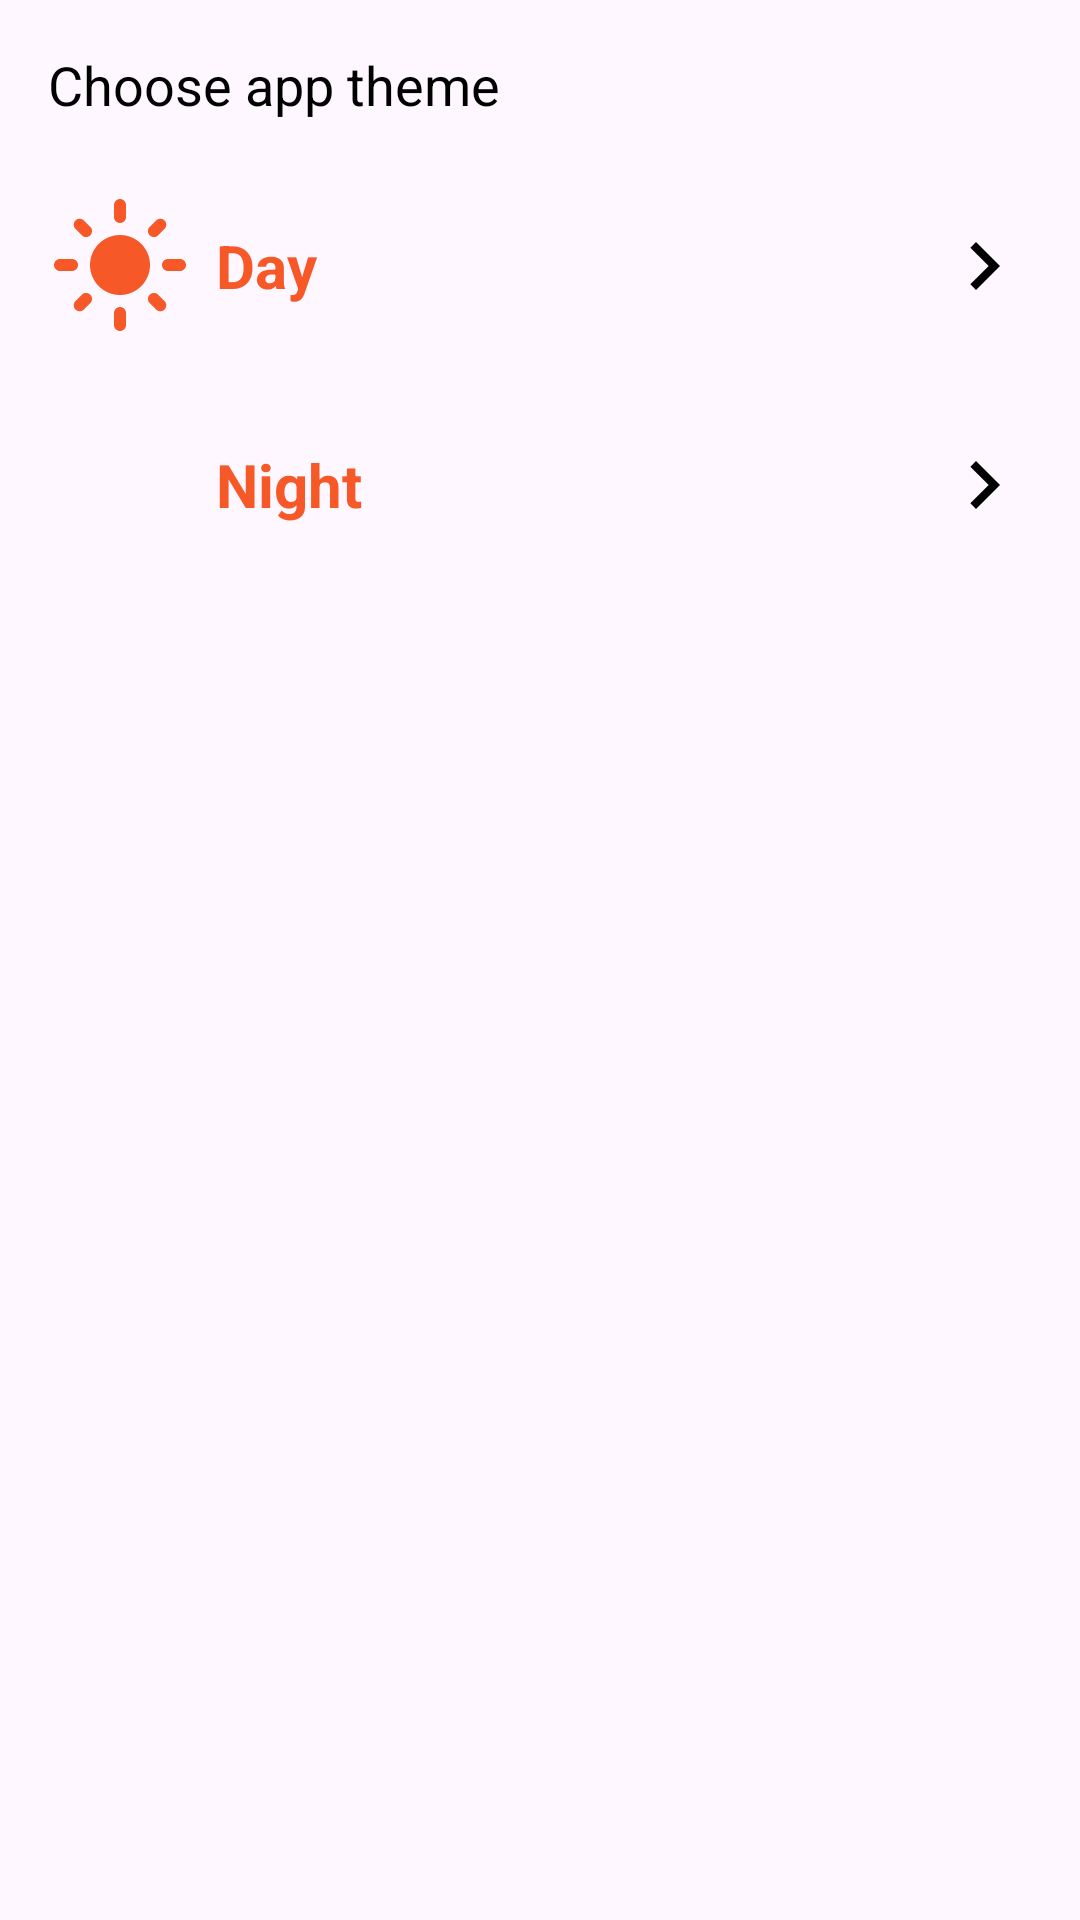

Screen size 1080x1920. Icon name, then its center in pixels as (x,y):
arrow right: (985,266), (985,485)
